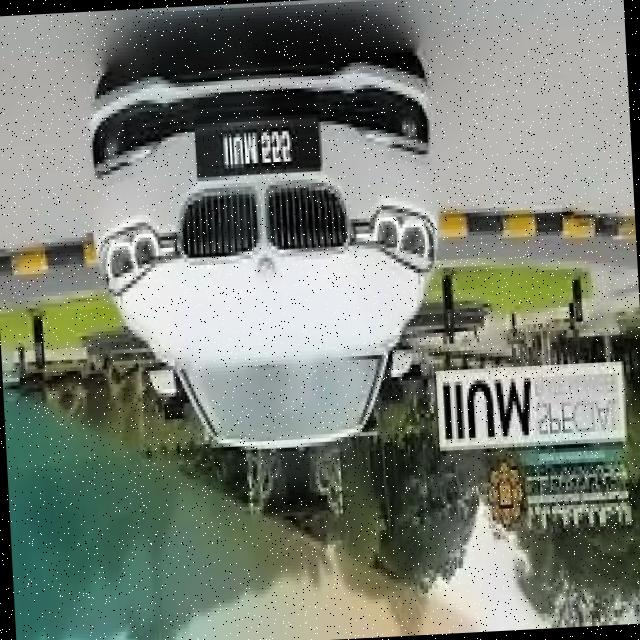License_Plate: (194, 120, 326, 181)
car: (86, 33, 465, 464)
